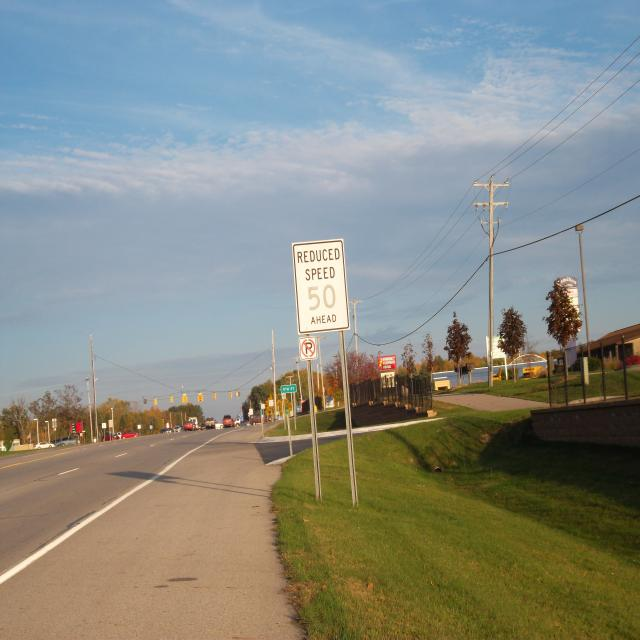regulatory: (290, 236, 351, 338), (298, 335, 319, 362), (282, 393, 286, 399), (249, 409, 253, 415)
